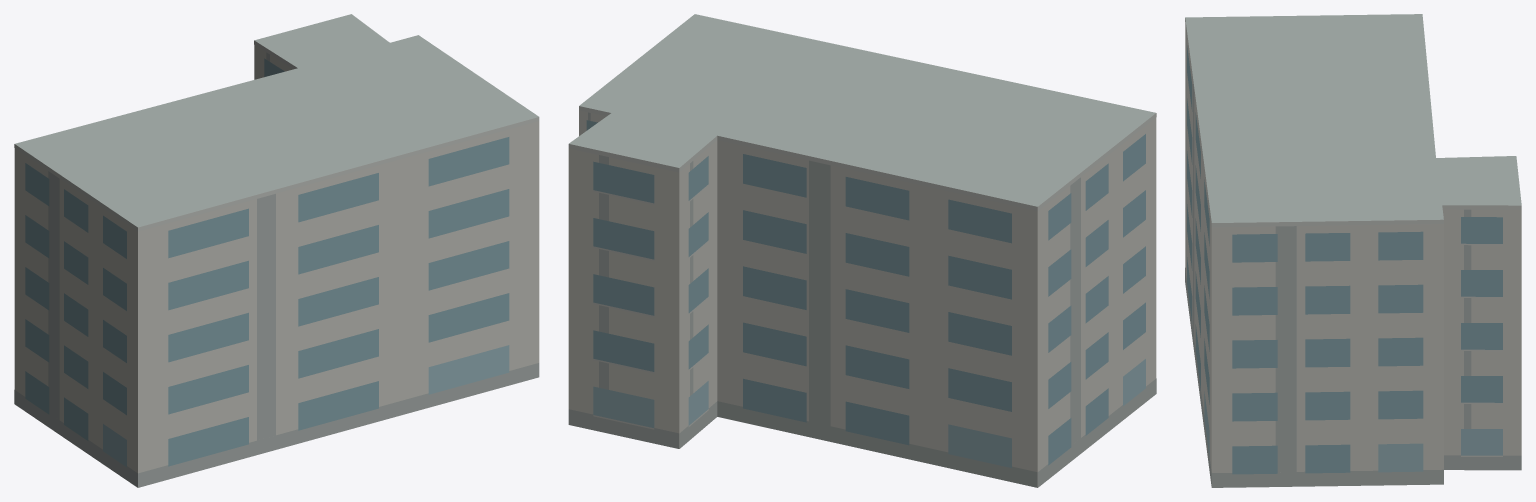
The model's file is survey-upis-32632479.glb.
3 renders of one model, left to right at view 1: azimuth 30°, elevation 25°; view 2: azimuth 150°, elevation 25°; view 3: azimuth 270°, elevation 25°, orthographic. The views are drawn at different scales.
Visible parts, largest first — view 1: survey-upis-32632479.tmp; view 2: survey-upis-32632479.tmp; view 3: survey-upis-32632479.tmp.
Part boxes in pixels (box(x1,y1,x2,y2)): survey-upis-32632479.tmp: box(14, 14, 539, 487); survey-upis-32632479.tmp: box(568, 14, 1156, 487); survey-upis-32632479.tmp: box(1185, 14, 1521, 487).
Size of the model in its own units: 25.84 by 15.25 by 17.58.
